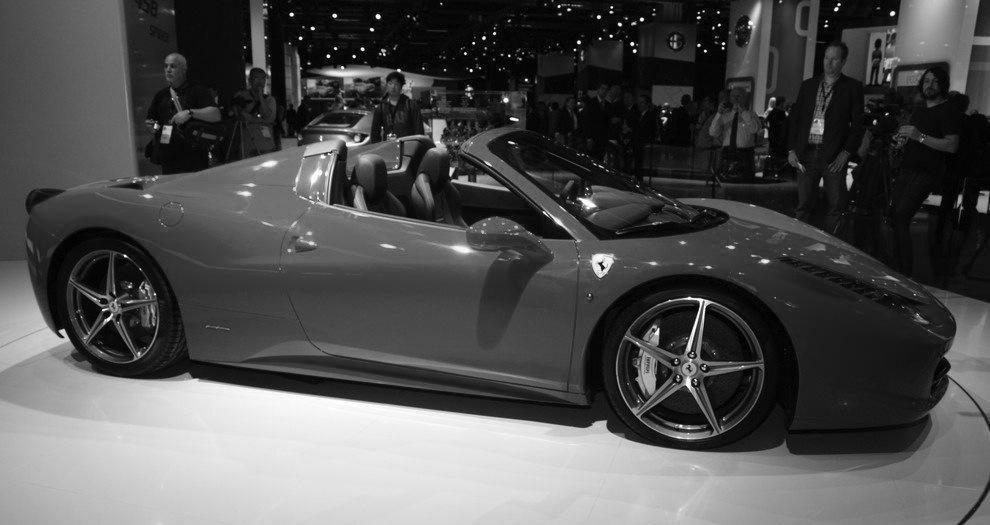car: (25, 128, 959, 450)
